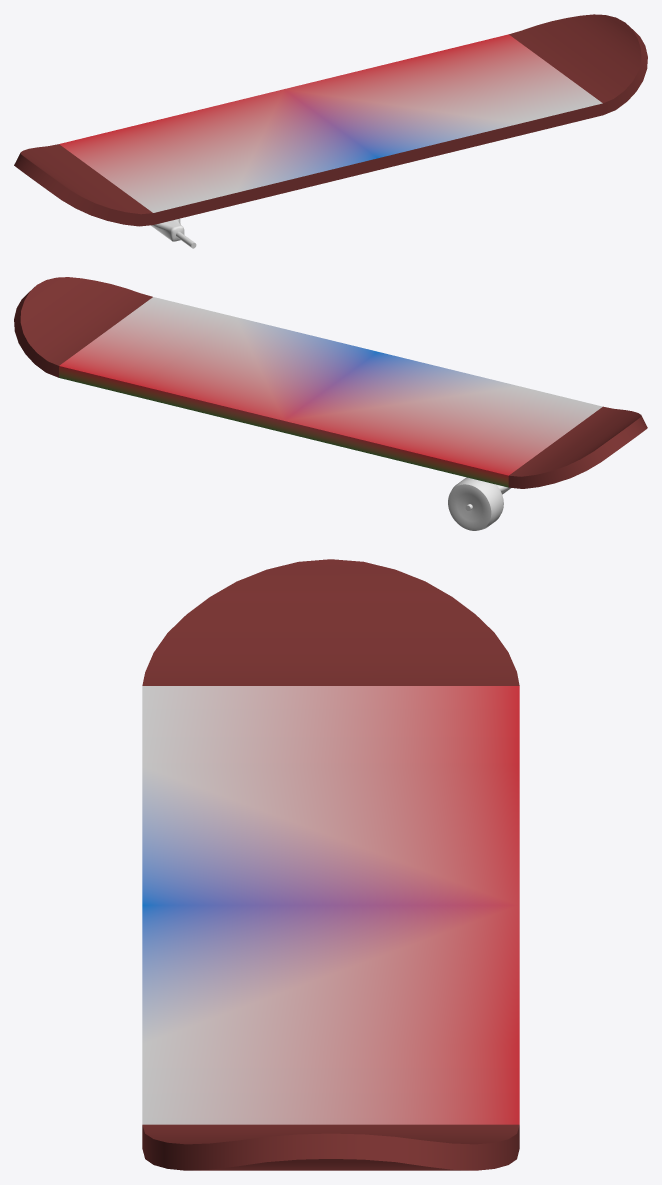
File: skateboard.fbx
3 renders of one model, top to bottom at view 1: azimuth 30°, elevation 25°; view 2: azimuth 150°, elevation 25°; view 3: azimuth 270°, elevation 25°, orthographic. The views are drawn at different scales.
Parts seen in each view (by area): view 1: board, suspension; view 2: board, wheel; view 3: board.
Boxes of the visible parts, box(x1,y1,x2,y2) form: board: box(14, 14, 647, 226); suspension: box(151, 218, 184, 241); board: box(14, 277, 647, 488); wheel: box(448, 477, 503, 530); board: box(142, 559, 519, 1170).
Bounding box in the file's own units: 739 × 116 × 200.
